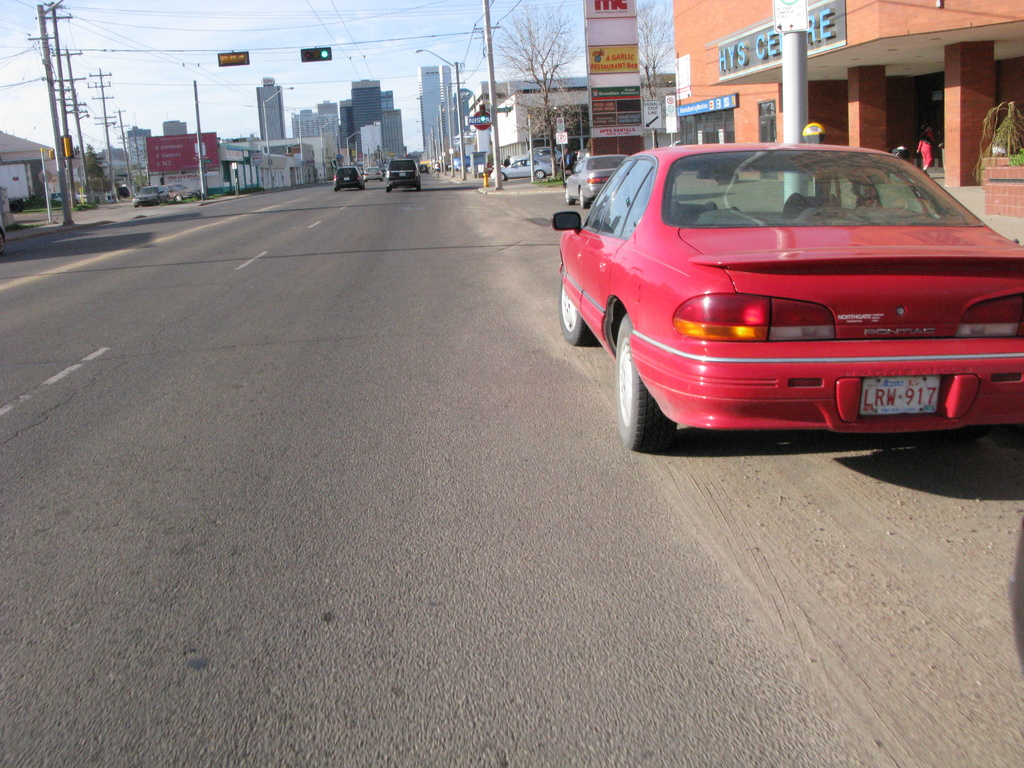Car: (575, 125, 1009, 446), (563, 154, 629, 207), (488, 156, 554, 181), (385, 158, 420, 192), (333, 165, 364, 192), (132, 184, 168, 206), (526, 147, 564, 165), (162, 183, 199, 200), (53, 192, 87, 203), (362, 166, 380, 181), (113, 184, 129, 198), (574, 147, 589, 161), (419, 163, 428, 174), (379, 165, 387, 176), (465, 164, 470, 171), (446, 165, 451, 171)
